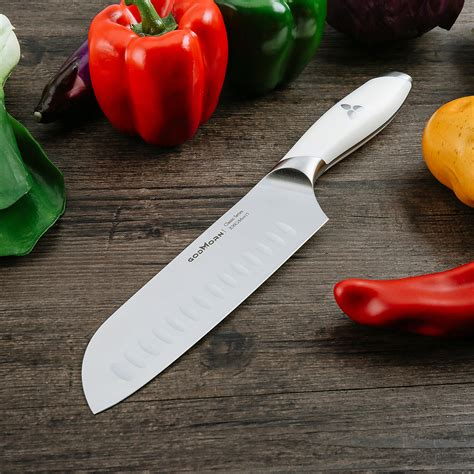knife: (81, 69, 415, 414)
